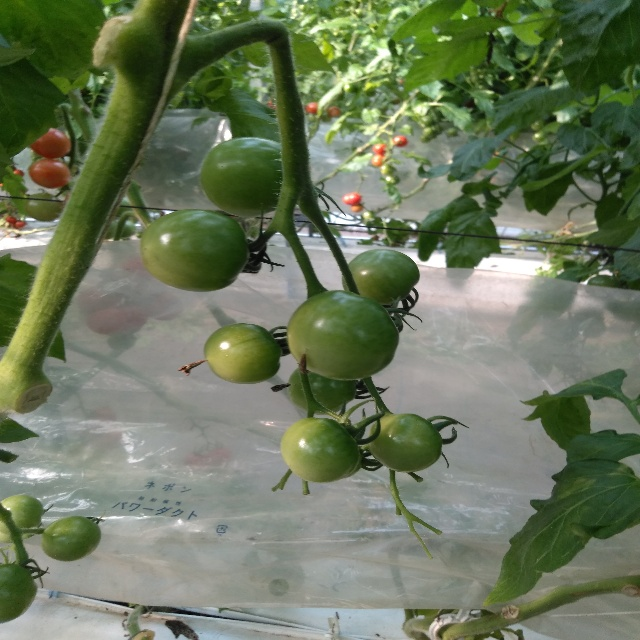l_fully_ripened: (30, 127, 72, 159)
l_green: (287, 290, 399, 381), (141, 209, 251, 292), (199, 136, 282, 219), (278, 417, 359, 483), (202, 323, 282, 385), (340, 248, 421, 306), (369, 414, 443, 473), (287, 364, 356, 415), (41, 516, 100, 562), (0, 564, 38, 624), (0, 494, 43, 536), (26, 192, 63, 222)
l_half_ripened: (28, 159, 70, 189)
